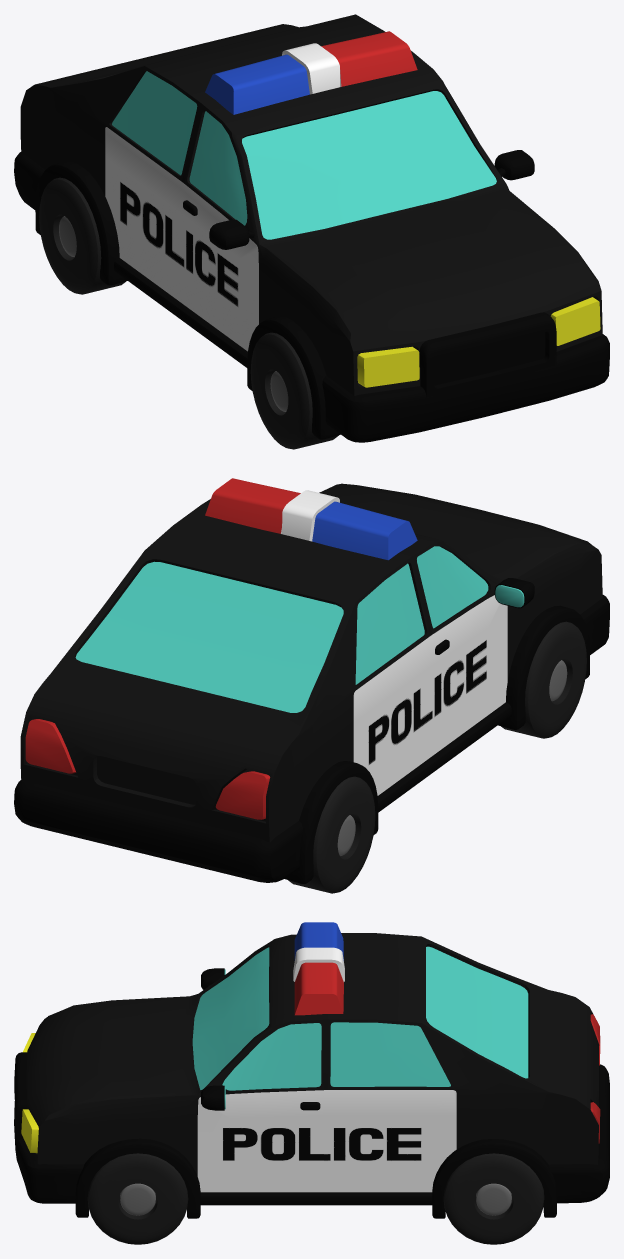
File: PoliceCar.fbx
3 renders of one model, top to bottom at view 1: azimuth 30°, elevation 25°; view 2: azimuth 150°, elevation 25°; view 3: azimuth 270°, elevation 25°, orthographic. The views are drawn at different scales.
Parts seen in each view (by area): view 1: PoliceBody, PoliceBumper, PoliceLight, P_FrontRWheel, P_BackRWheel; view 2: PoliceBody, PoliceBumper, PoliceLight, P_BackRWheel, P_FrontRWheel; view 3: PoliceBody, PoliceBumper, P_BackLWheel, P_FrontLWheel, PoliceLight.
Part boxes in pixels (<box>): PoliceBody: <box>20,14,602,395</box>; PoliceBumper: <box>14,152,609,442</box>; PoliceLight: <box>205,31,417,114</box>; P_FrontRWheel: <box>250,332,338,449</box>; P_BackRWheel: <box>39,177,125,294</box>; PoliceBody: <box>20,483,602,842</box>; PoliceBumper: <box>14,595,609,883</box>; PoliceLight: <box>205,478,417,560</box>; P_BackRWheel: <box>288,776,375,893</box>; P_FrontRWheel: <box>501,621,586,738</box>; PoliceBody: <box>21,933,600,1192</box>; PoliceBumper: <box>14,1052,609,1218</box>; P_BackLWheel: <box>443,1153,544,1244</box>; P_FrontLWheel: <box>87,1153,188,1244</box>; PoliceLight: <box>293,922,344,1015</box>.
Size of the model in its own units: 2.97 by 2.51 by 5.76.
Materials: 3 (3 with a texture image).
